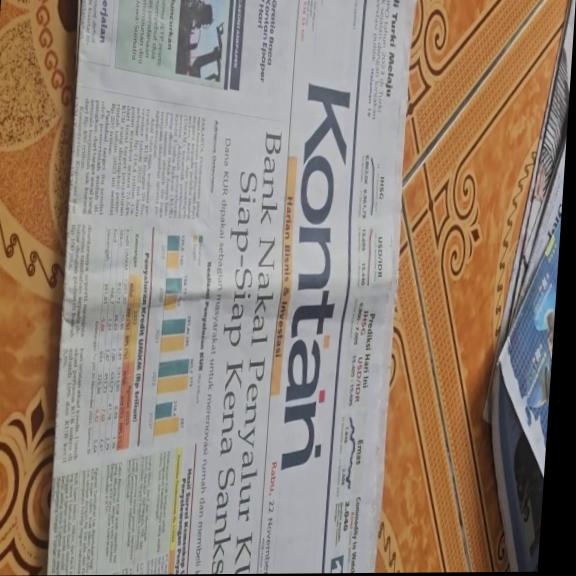Kertas: (51, 0, 413, 568)
